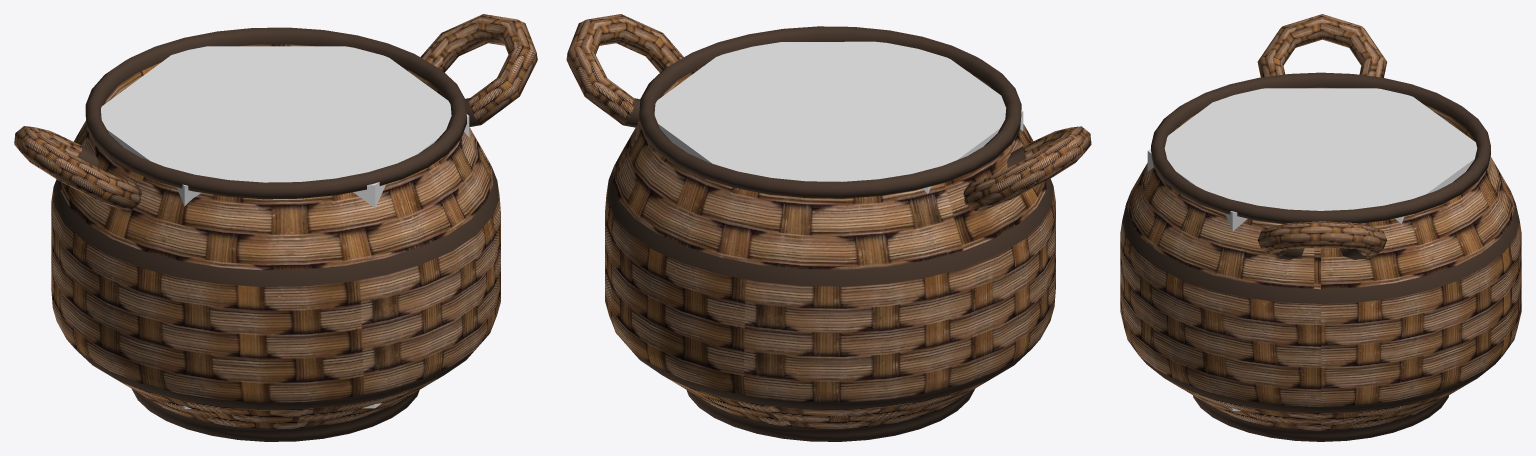
Rendered from Basket.fbx.
The picture shows the model from 3 angles, left to right: view 1: azimuth 30°, elevation 25°; view 2: azimuth 150°, elevation 25°; view 3: azimuth 270°, elevation 25°; orthographic projection. The views are drawn at different scales.
Parts seen in each view (by area): view 1: Basket.001, Trigger1; view 2: Basket.001, Trigger1; view 3: Basket.001, Trigger1.
Part boxes in pixels (box(x1,y1,x2,y2)): Basket.001: box(14, 14, 537, 441); Trigger1: box(101, 46, 469, 408); Basket.001: box(566, 14, 1091, 441); Trigger1: box(654, 41, 1023, 193); Basket.001: box(1120, 14, 1521, 441); Trigger1: box(1147, 88, 1477, 410).
Size of what is drawn, in the model's own units: 1.38 by 0.7931 by 1.08.
1 material, 1 textured.
